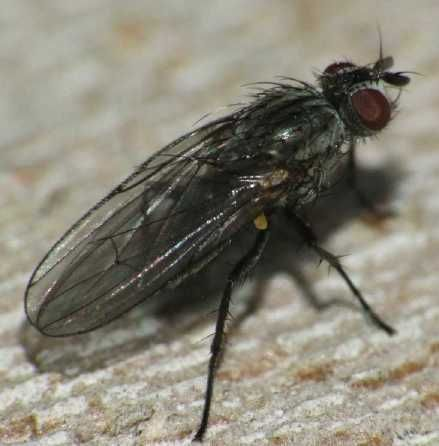house fly: (20, 23, 405, 446)
